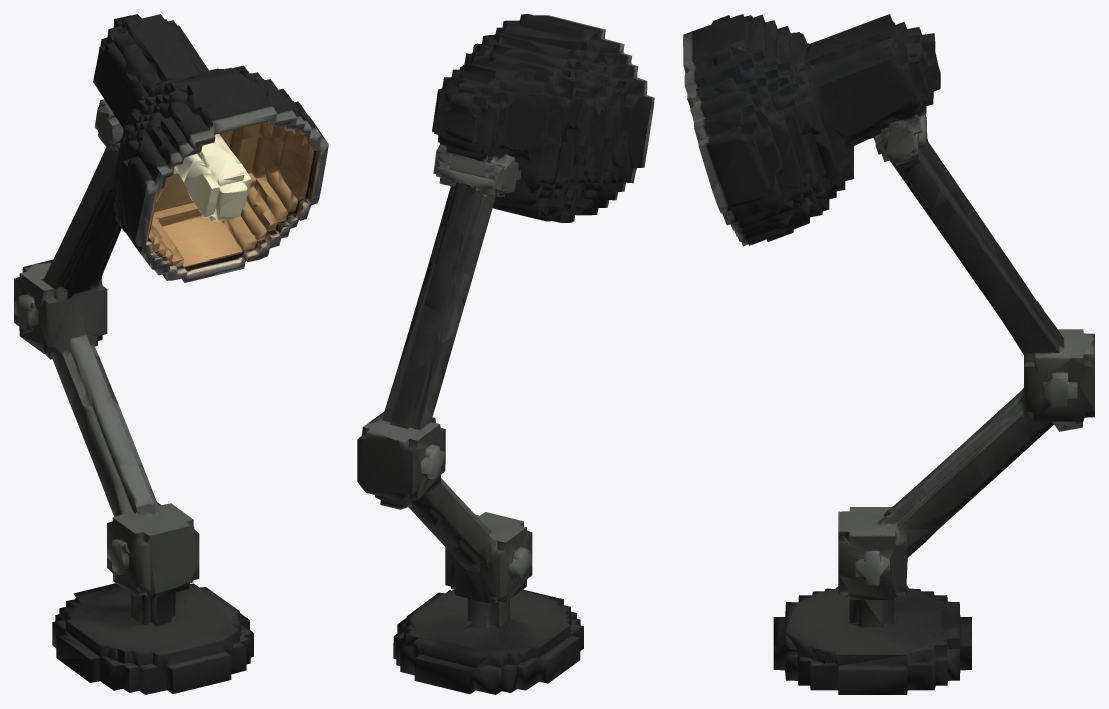
File: desk_lamp.glb
The picture shows the model from 3 angles, left to right: view 1: azimuth 30°, elevation 25°; view 2: azimuth 150°, elevation 25°; view 3: azimuth 270°, elevation 25°; orthographic projection. The views are drawn at different scales.
Size of the model in its own units: 0.6002 by 2 by 1.18.
1 material, 1 textured.
